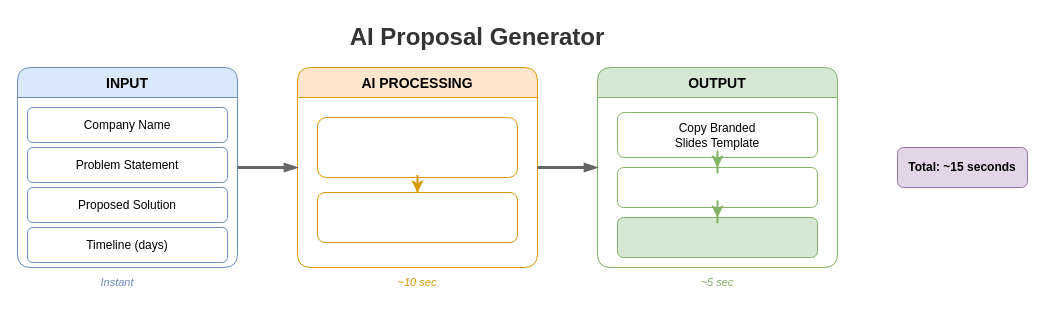
Some shapes in this 1045 by 309 pixel diagram are drawn without their labels. Here are the shapes that lost their labels. From the top down, the centre of each, then its label:
At (x=417, y=147): "Gemini AI Generates Proposal Content".
At (x=717, y=187): "Populate All Fields".
At (x=417, y=217): "25 Custom Fields Auto-Generated".
At (x=717, y=237): "Shareable Google Slides URL".
